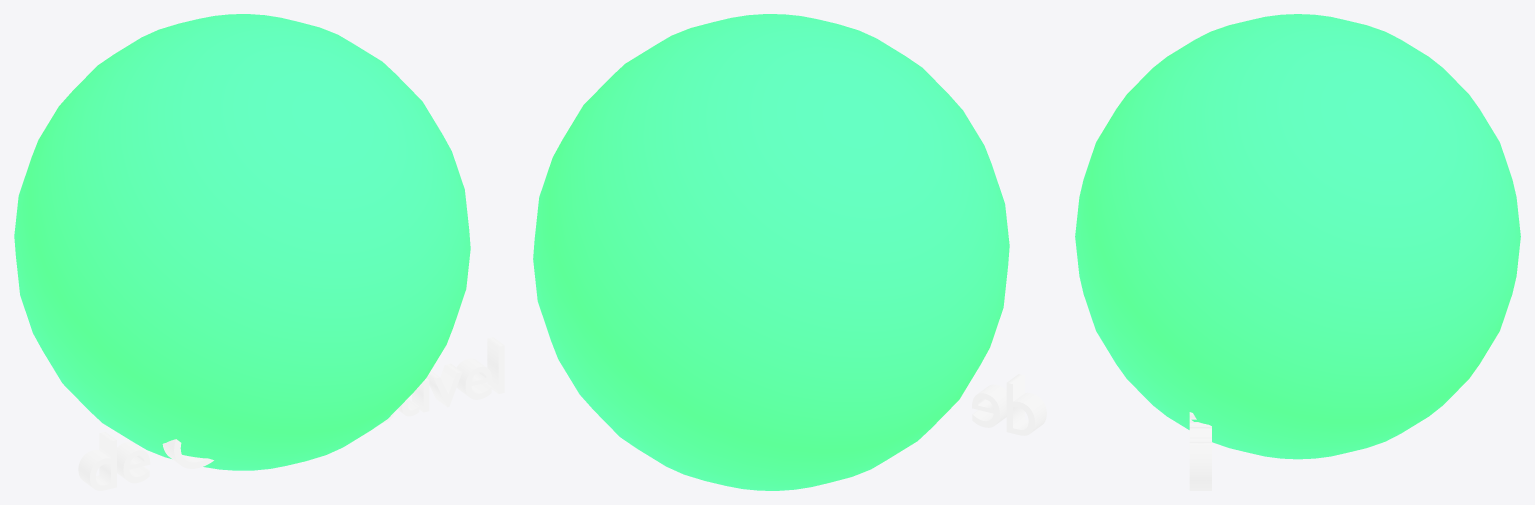
Rendered from filtro-de-combustivel.glb.
3 renders of one model, left to right at view 1: azimuth 30°, elevation 25°; view 2: azimuth 150°, elevation 25°; view 3: azimuth 270°, elevation 25°, orthographic. The views are drawn at different scales.
Parts seen in each view (by area): view 1: Sphere.002, Text.003; view 2: Sphere.002, Text.003; view 3: Sphere.002, Text.003.
Part boxes in pixels (<box>): Sphere.002: <box>14,14,470,470</box>; Text.003: <box>78,337,504,490</box>; Sphere.002: <box>533,14,1009,490</box>; Text.003: <box>972,374,1046,435</box>; Sphere.002: <box>1075,14,1520,459</box>; Text.003: <box>1189,412,1211,490</box>.
Size of the model in its own units: 5.39 by 5.15 by 5.15.
